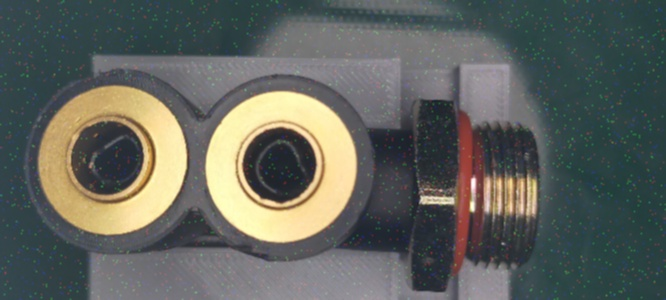bump: (229, 243, 277, 261), (80, 69, 123, 84)
off-centered: (83, 135, 147, 190), (250, 138, 312, 194)
white mark: (386, 163, 408, 183)
